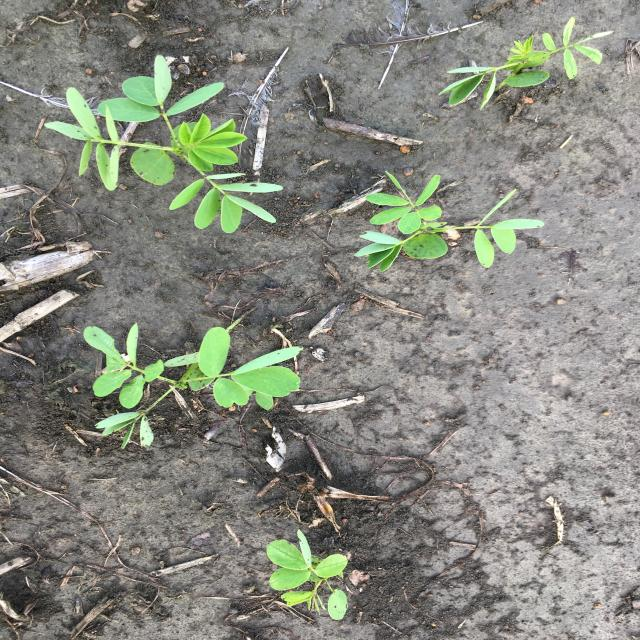Sicklepod: (41, 54, 286, 234), (82, 319, 305, 453), (351, 170, 545, 274), (437, 15, 615, 112), (262, 528, 350, 622)
